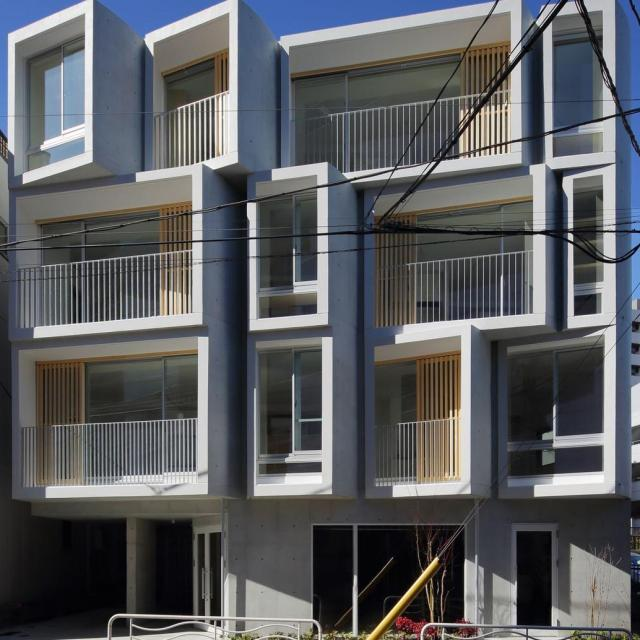Railing: (289, 91, 511, 173), (17, 251, 192, 329), (21, 419, 197, 488), (376, 250, 533, 327), (151, 90, 228, 170), (374, 420, 460, 485)
door: (510, 522, 560, 630), (191, 524, 226, 636)
wall: (6, 0, 631, 634)
windows: (309, 522, 465, 632), (294, 44, 510, 118), (508, 343, 603, 478), (38, 351, 196, 426), (377, 198, 535, 265), (39, 204, 192, 265), (22, 34, 84, 174), (258, 345, 321, 477), (259, 193, 317, 319), (553, 29, 603, 158), (375, 352, 459, 428), (163, 50, 228, 113), (574, 187, 603, 315)
